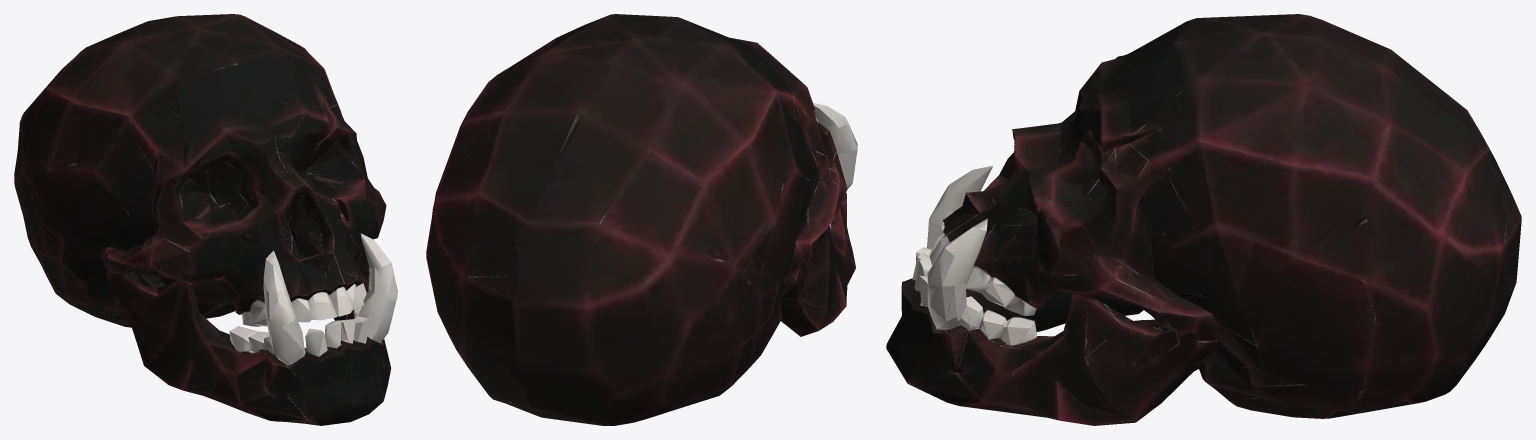
The model's file is brute.glb.
3 views of the same model, side by side, from view 1: azimuth 30°, elevation 25°; view 2: azimuth 150°, elevation 25°; view 3: azimuth 270°, elevation 25° (orthographic). The views are drawn at different scales.
Parts seen in each view (by area): view 1: mesh_node; view 2: mesh_node; view 3: mesh_node.
Boxes of the visible parts, x1=… form: mesh_node: x1=14, y1=14, x2=397, y2=425; mesh_node: x1=426, y1=14, x2=857, y2=425; mesh_node: x1=886, y1=14, x2=1521, y2=425.
Size of the model in its own units: 1.14 by 1.12 by 1.9.
Materials: 1 (1 with a texture image).
